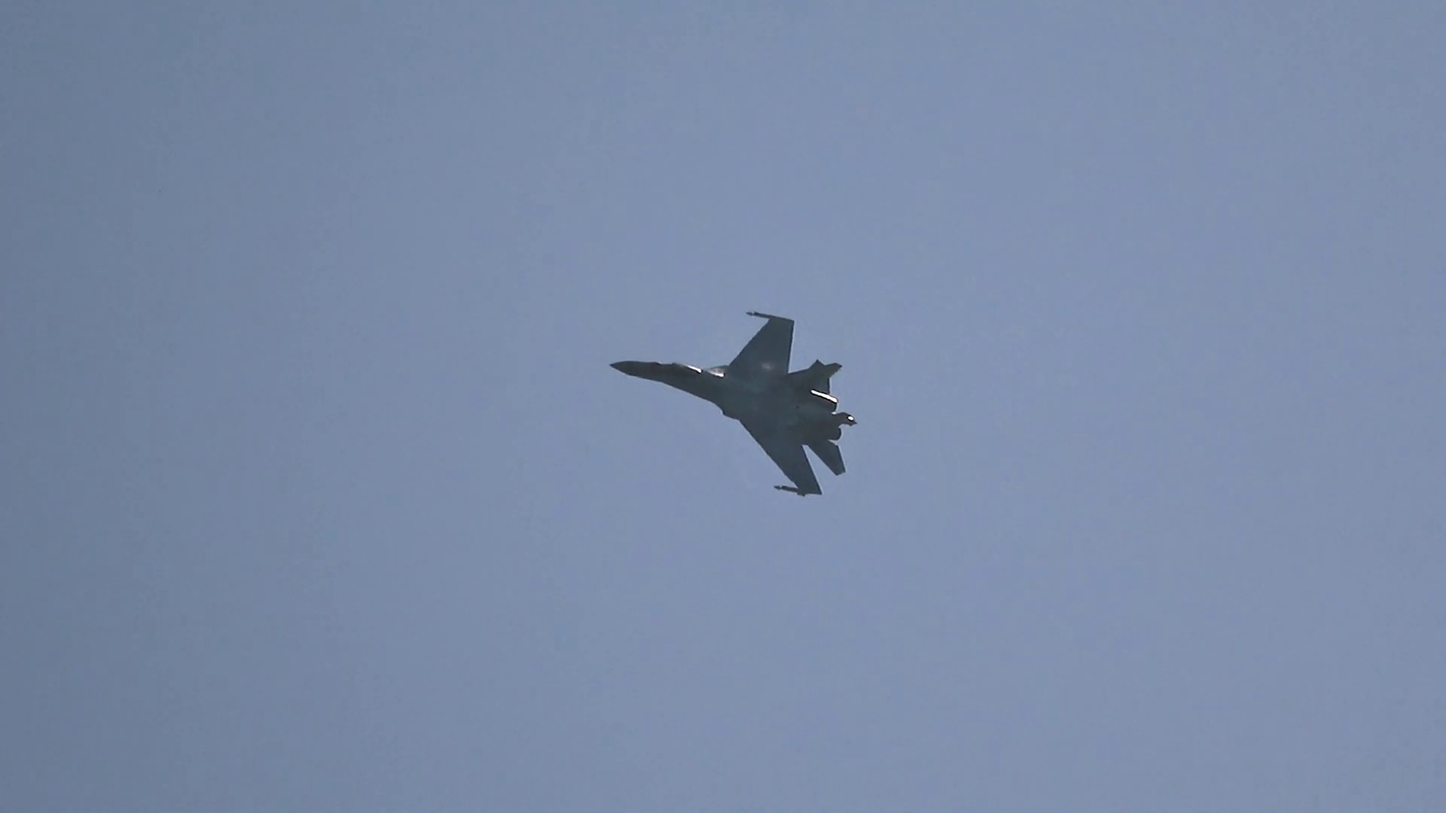Su35: (609, 311, 858, 497)
